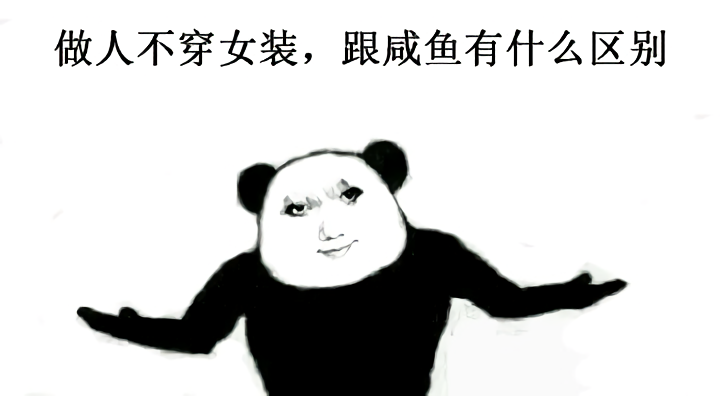dragon: (282, 181, 370, 264)
